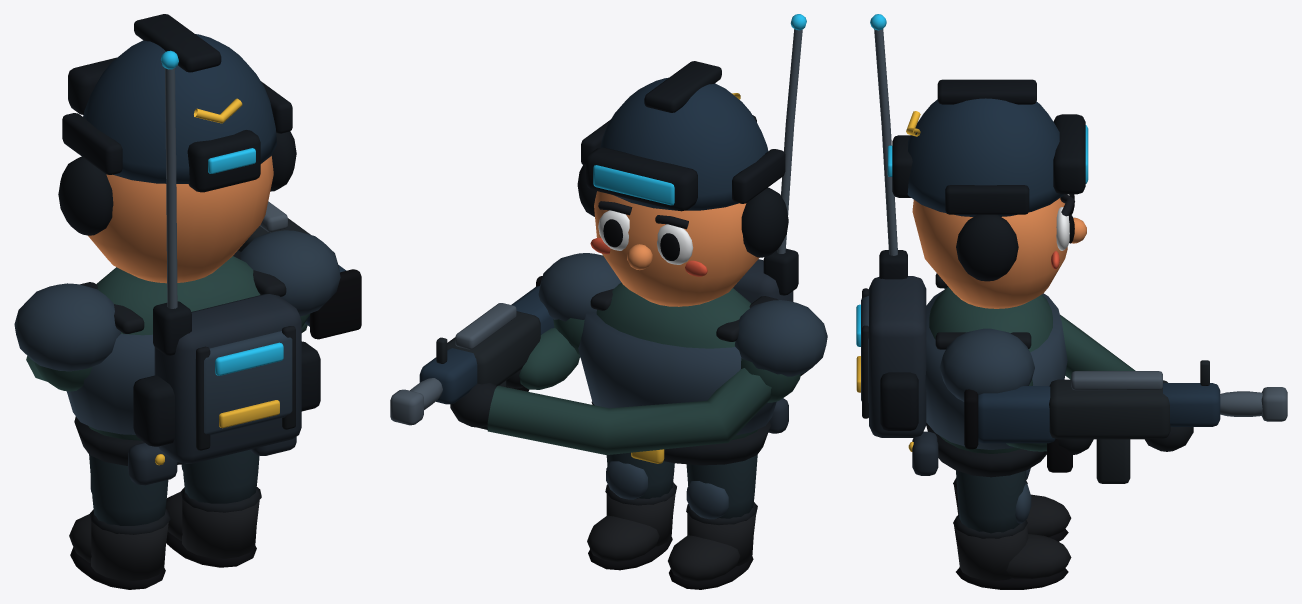
The model's file is soldier.glb.
3 views of the same model, side by side, from view 1: azimuth 30°, elevation 25°; view 2: azimuth 150°, elevation 25°; view 3: azimuth 270°, elevation 25° (orthographic). The views are drawn at different scales.
Parts seen in each view (by area): view 1: Body, Head, LegL, LegR, Arms; view 2: Head, Body, Arms, LegL, LegR; view 3: Head, Body, Arms, LegR, LegL.
Boxes of the visible parts, x1,y1,x2,y2 form: Body: (14,50,340,485); Head: (58,14,296,283); LegL: (69,454,170,589); LegR: (165,449,261,567); Arms: (26,201,361,391); Head: (577,61,788,306); Body: (538,14,827,465); Arms: (390,276,800,454); LegL: (668,455,757,589); LegR: (587,452,676,570); Head: (887,79,1088,308); Body: (856,14,1067,477); Arms: (964,314,1287,483); LegR: (953,470,1071,589); LegL: (953,468,1071,541).
Size of the model in its own units: 0.8893 by 1.49 by 1.13.
1 material, 1 textured.
